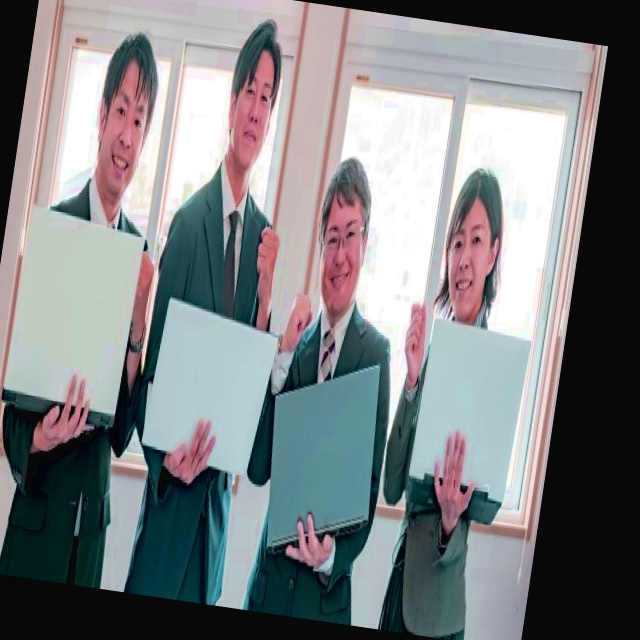Sin_Casco_Mascarrilla: (87, 26, 165, 205), (435, 165, 513, 321), (307, 147, 381, 307), (220, 14, 290, 159)
